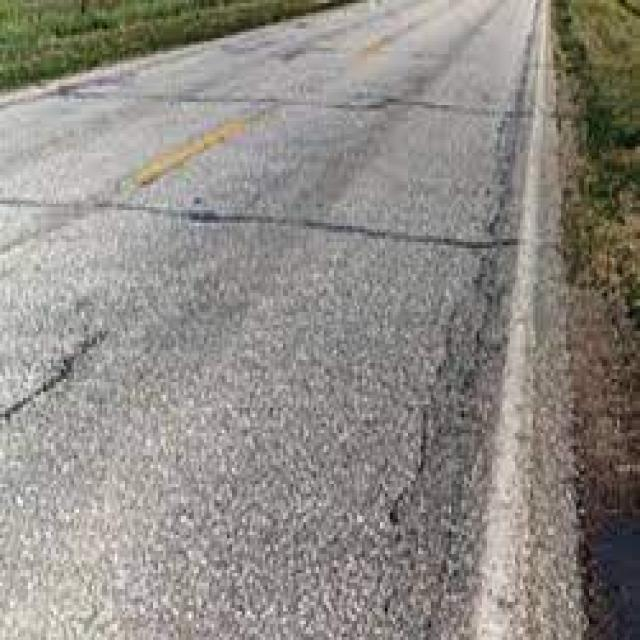Pothole: (417, 0, 640, 640)
